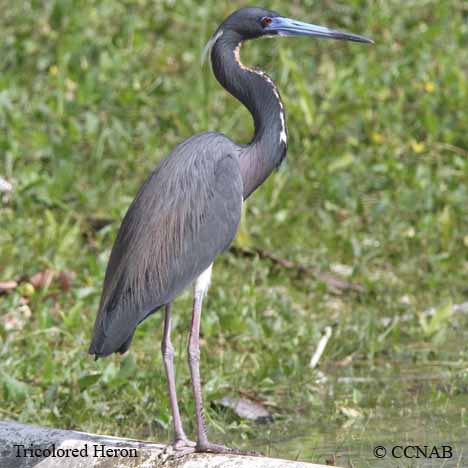heron: (86, 5, 375, 454)
